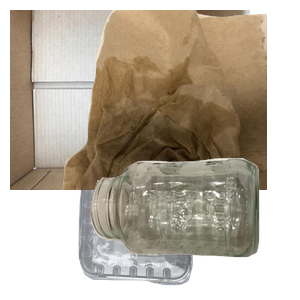cardboard: (10, 10, 250, 190)
glass: (88, 156, 300, 300)
plastic: (76, 162, 264, 300)
trash: (60, 10, 300, 190)
